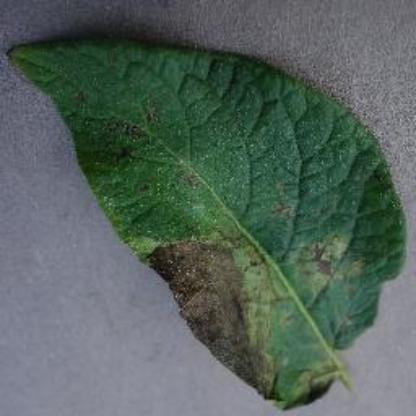Late-Blight: (9, 30, 396, 402)
